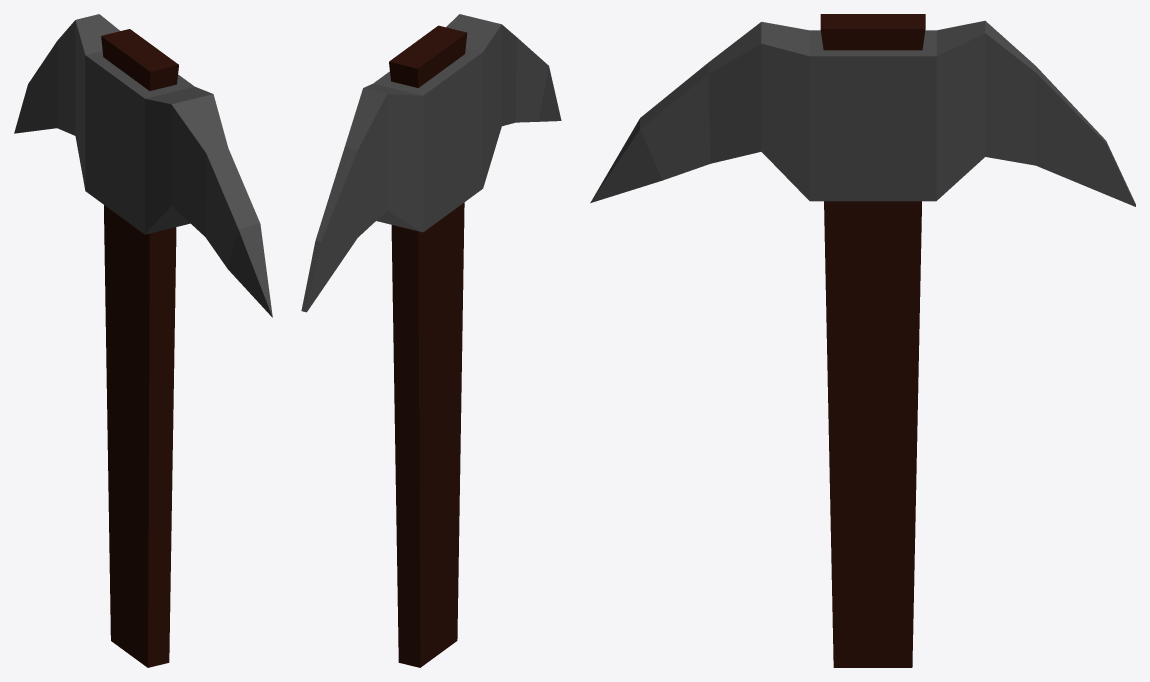
Rendered from pickaxe.obj.
3 renders of one model, left to right at view 1: azimuth 30°, elevation 25°; view 2: azimuth 150°, elevation 25°; view 3: azimuth 270°, elevation 25°, orthographic. The views are drawn at different scales.
Parts seen in each view (by area): view 1: Cube.001_Cube.002; view 2: Cube.001_Cube.002; view 3: Cube.001_Cube.002.
Boxes of the visible parts, bbox=[...] form: Cube.001_Cube.002: bbox=[14, 14, 272, 667]; Cube.001_Cube.002: bbox=[301, 14, 561, 667]; Cube.001_Cube.002: bbox=[590, 14, 1135, 667].
Size of the model in its own units: 0.0829 by 0.9542 by 0.7366.
